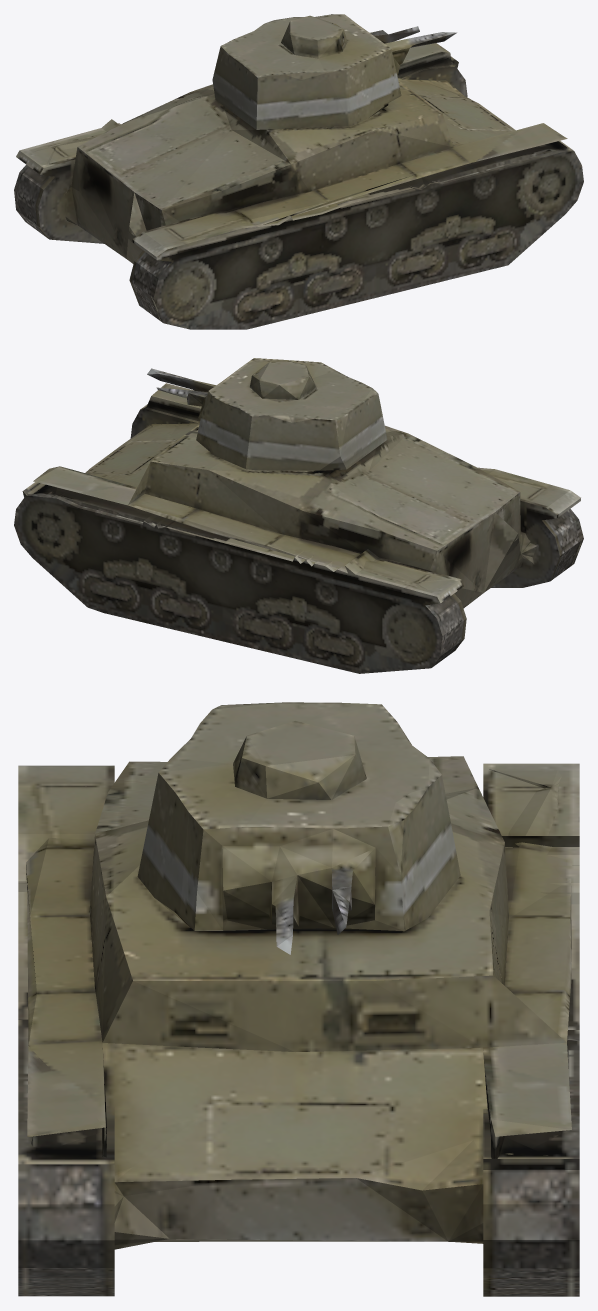
File: both.obj
3 renders of one model, top to bottom at view 1: azimuth 30°, elevation 25°; view 2: azimuth 150°, elevation 25°; view 3: azimuth 270°, elevation 25°, orthographic. The views are drawn at different scales.
Parts seen in each view (by area): view 1: turret.obj; view 2: turret.obj; view 3: turret.obj.
Part boxes in pixels (x1=…): turret.obj: x1=14, y1=14, x2=583, y2=329; turret.obj: x1=14, y1=358, x2=583, y2=673; turret.obj: x1=18, y1=702, x2=579, y2=1296.
Bounding box in the file's own units: 1.01 × 0.4842 × 0.57.
1 material, 1 textured.
